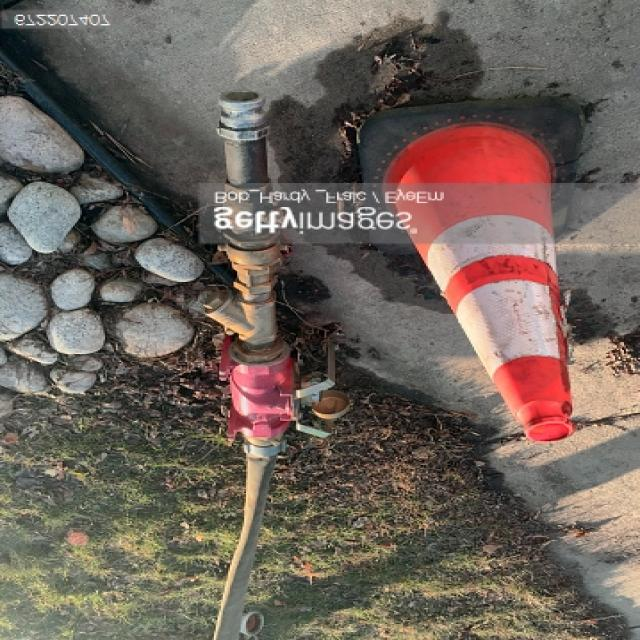cone: (351, 92, 602, 449)
